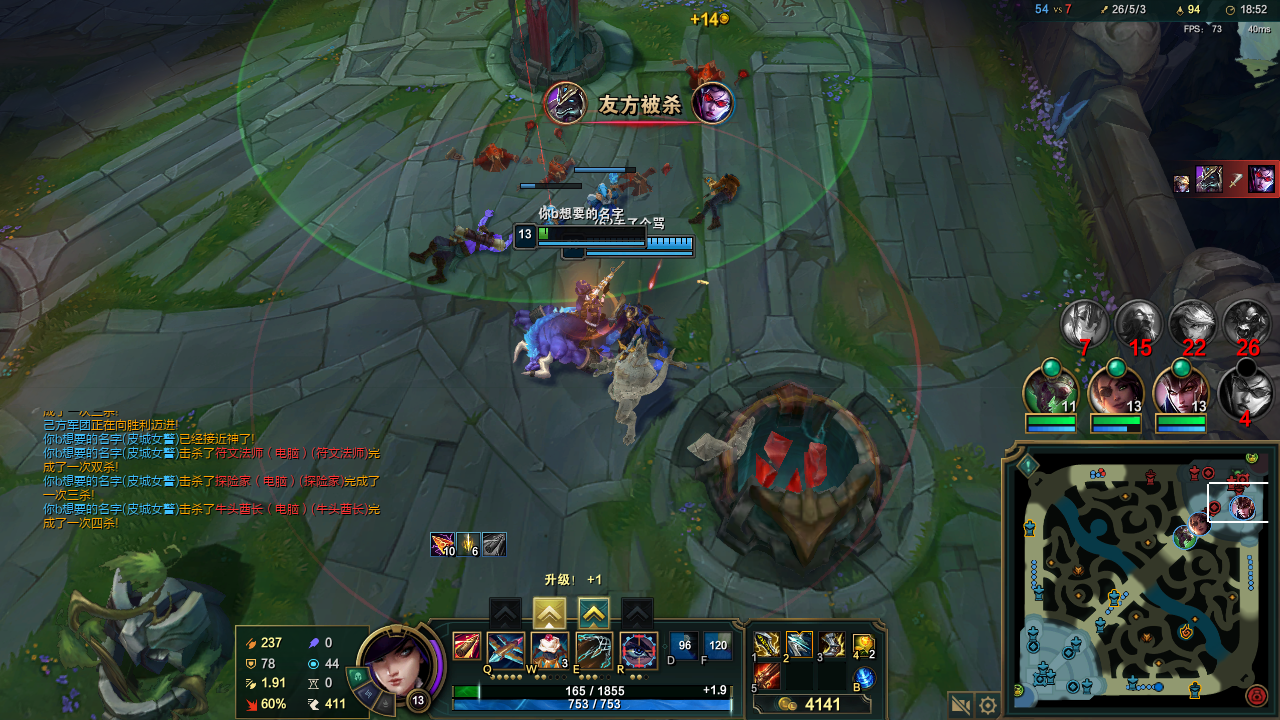KF: (786, 633, 808, 646)
Shenji: (585, 604, 606, 624)
Tuijianshengji: (536, 600, 564, 626)
WFXB: (585, 181, 626, 214)
